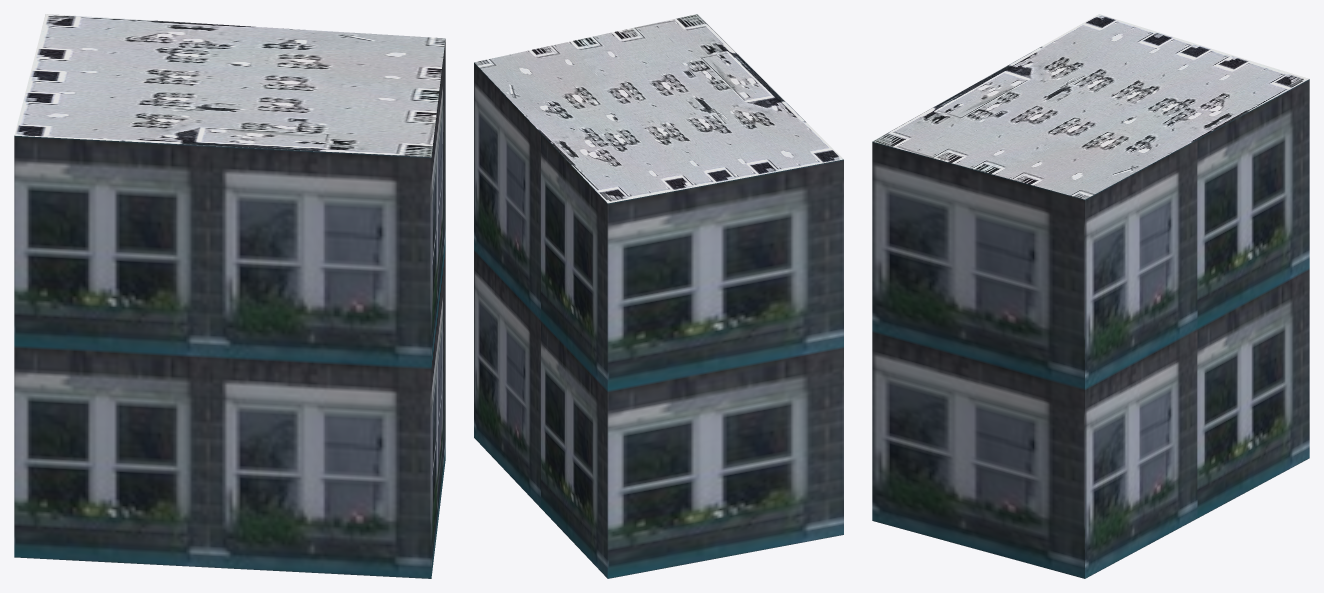
File: ResTex__1958.fbx
3 views of the same model, side by side, from view 1: azimuth 30°, elevation 25°; view 2: azimuth 150°, elevation 25°; view 3: azimuth 270°, elevation 25° (orthographic). The views are drawn at different scales.
Visible parts, largest first — view 1: CityEngineMaterial_11_m, CityEngineMaterial_8_m; view 2: CityEngineMaterial_11_m, CityEngineMaterial_8_m; view 3: CityEngineMaterial_11_m, CityEngineMaterial_8_m.
Part boxes in pixels (box(x1,y1,x2,y2)): CityEngineMaterial_11_m: box(14, 39, 445, 578); CityEngineMaterial_8_m: box(14, 14, 445, 157); CityEngineMaterial_11_m: box(474, 62, 843, 578); CityEngineMaterial_8_m: box(474, 14, 843, 203); CityEngineMaterial_11_m: box(872, 79, 1309, 578); CityEngineMaterial_8_m: box(872, 14, 1308, 199).
Bounding box in the file's own units: 6.3 × 6 × 6.27.
2 materials, 2 textured.
